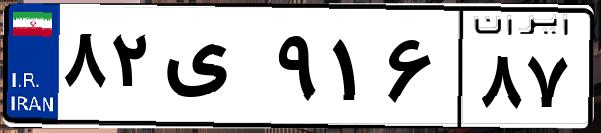1: (330, 28, 385, 110)
2: (110, 28, 158, 98)
6: (385, 28, 445, 110)
7: (525, 38, 570, 115)
8: (57, 26, 110, 100), (475, 38, 525, 113)
9: (270, 28, 330, 110)
ی: (158, 20, 270, 120)
